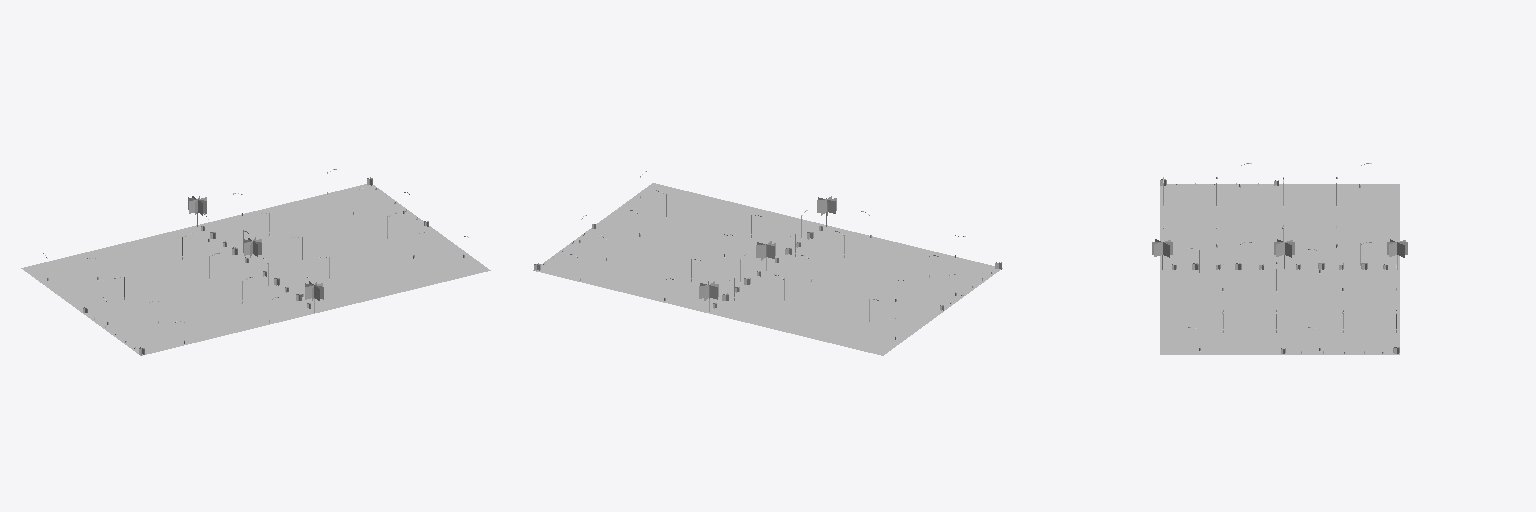
File: Parking.obj
3 renders of one model, left to right at view 1: azimuth 30°, elevation 25°; view 2: azimuth 150°, elevation 25°; view 3: azimuth 270°, elevation 25°, orthographic.
Parts seen in each view (by area): view 1: Parking_Area_Parking_Area_Tex_0, Vegetation_Vegetation_Atlas_0; view 2: Parking_Area_Parking_Area_Tex_0, Vegetation_Vegetation_Atlas_0; view 3: Parking_Area_Parking_Area_Tex_0, Vegetation_Vegetation_Atlas_0.
Boxes of the visible parts, <box> form: Parking_Area_Parking_Area_Tex_0: <box>21,184,490,355</box>; Vegetation_Vegetation_Atlas_0: <box>83,177,428,355</box>; Parking_Area_Parking_Area_Tex_0: <box>533,183,1002,355</box>; Vegetation_Vegetation_Atlas_0: <box>534,196,1001,311</box>; Parking_Area_Parking_Area_Tex_0: <box>1160,184,1399,354</box>; Vegetation_Vegetation_Atlas_0: <box>1152,179,1407,353</box>.
Size of the model in its own units: 0.9788 by 0.0738 by 0.6174.